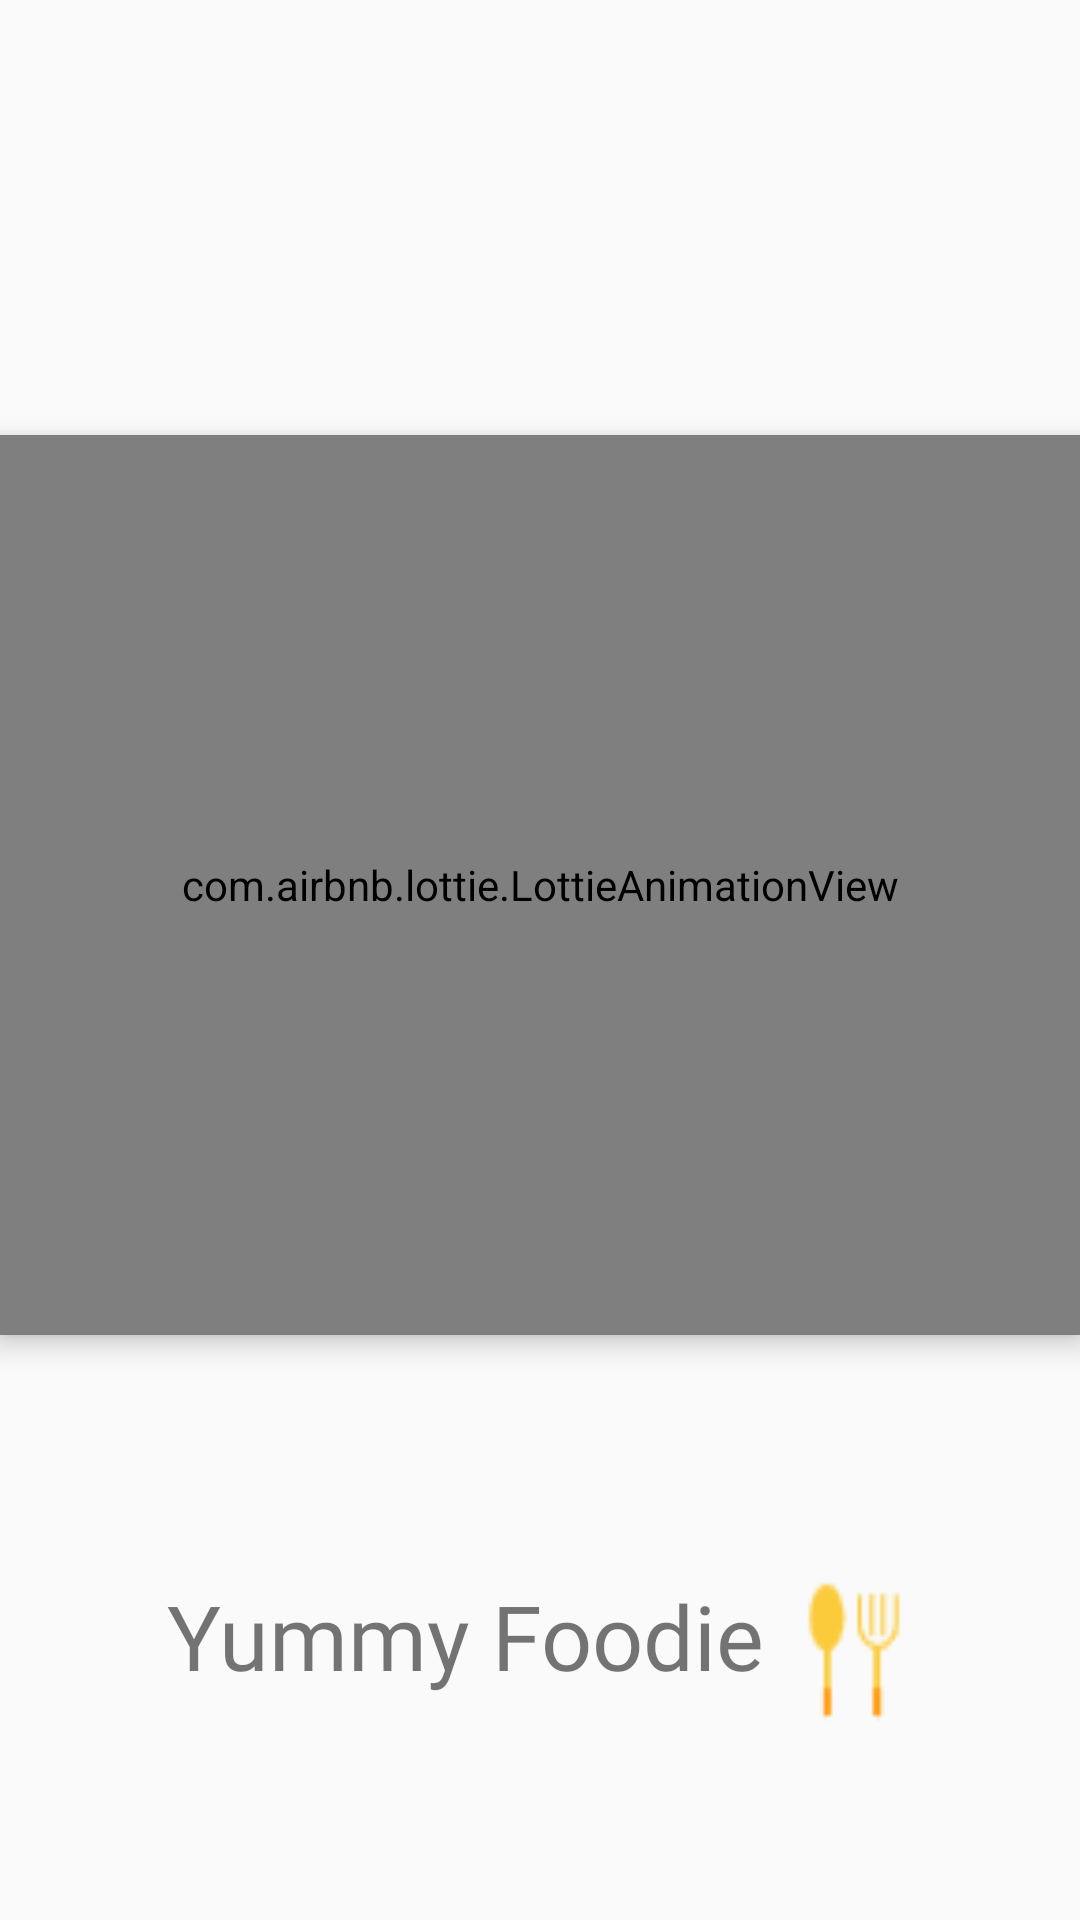

Named icons in this screenshot (1080w x 1920h) and their bounding boxes, bbox=[x1, y1, x2, y2]:
yinshi: bbox=[808, 1583, 900, 1719]
